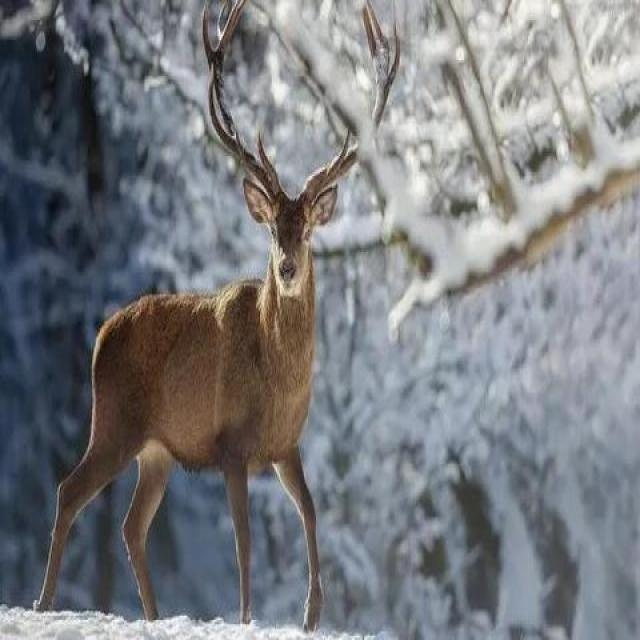deer: (181, 97, 416, 552)
